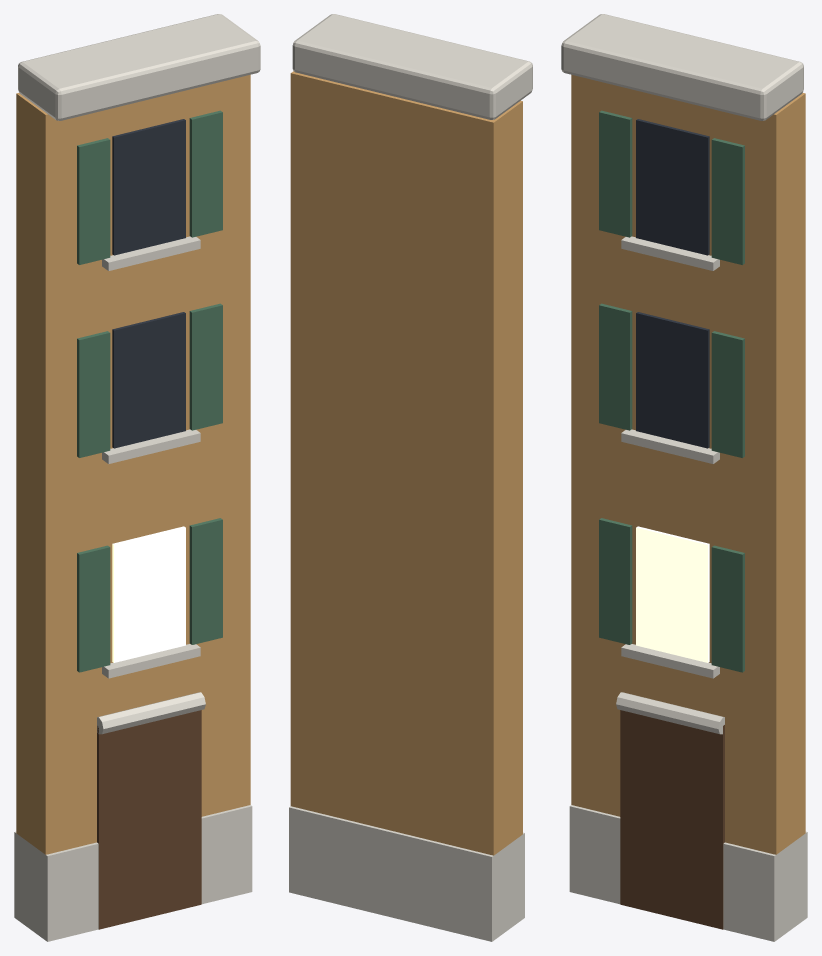
File: DoorOchre.glb
3 views of the same model, side by side, from view 1: azimuth 30°, elevation 25°; view 2: azimuth 150°, elevation 25°; view 3: azimuth 330°, elevation 25° (orthographic).
Visible parts, largest first — view 1: DoorOchre; view 2: DoorOchre; view 3: DoorOchre.
Boxes of the visible parts, x1=… form: DoorOchre: x1=14, y1=14, x2=260, y2=941; DoorOchre: x1=289, y1=14, x2=532, y2=941; DoorOchre: x1=561, y1=14, x2=807, y2=941.
Size of the model in its own units: 2 by 8 by 0.73.
